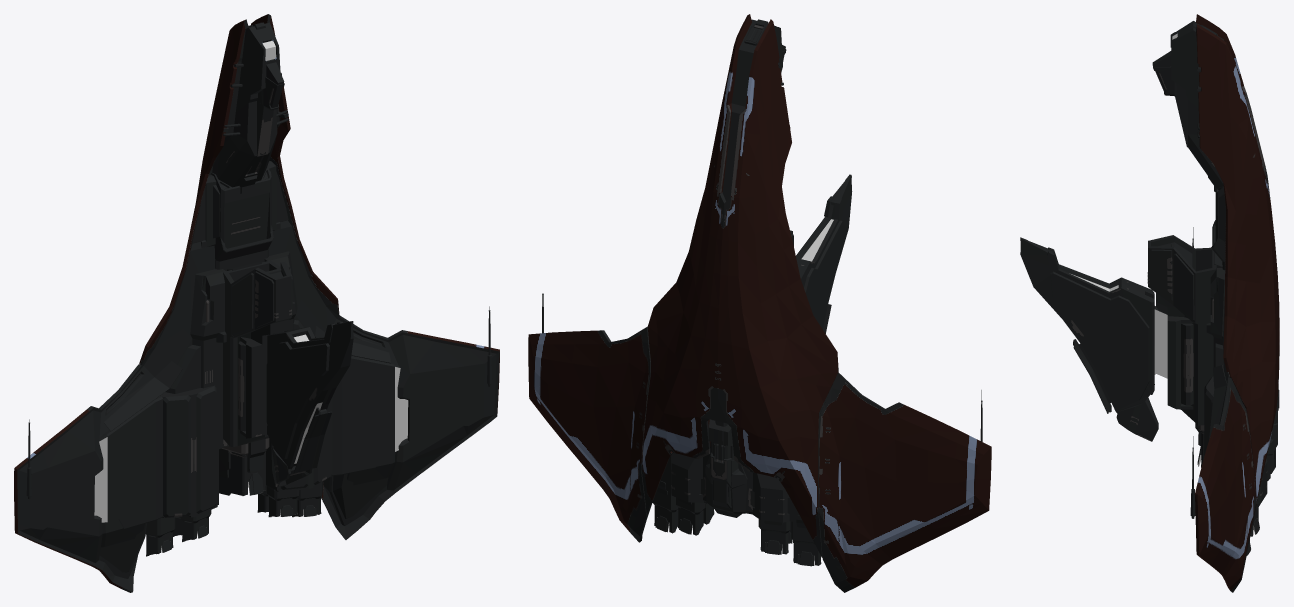
File: Monitor.obj
The picture shows the model from 3 angles, left to right: view 1: azimuth 30°, elevation 25°; view 2: azimuth 150°, elevation 25°; view 3: azimuth 270°, elevation 25°; orthographic projection. The views are drawn at different scales.
Parts seen in each view (by area): view 1: group_0, group_2; view 2: group_0; view 3: group_0, group_2.
Part boxes in pixels (<box>): group_0: <box>14,14,499,592</box>; group_2: <box>94,334,408,522</box>; group_0: <box>528,14,991,592</box>; group_0: <box>1020,14,1279,592</box>; group_2: <box>1071,274,1167,378</box>.
Bounding box in the file's own units: 369 × 410 × 183.
